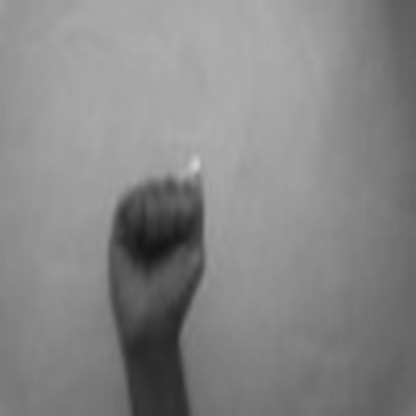a: (102, 156, 210, 336)
